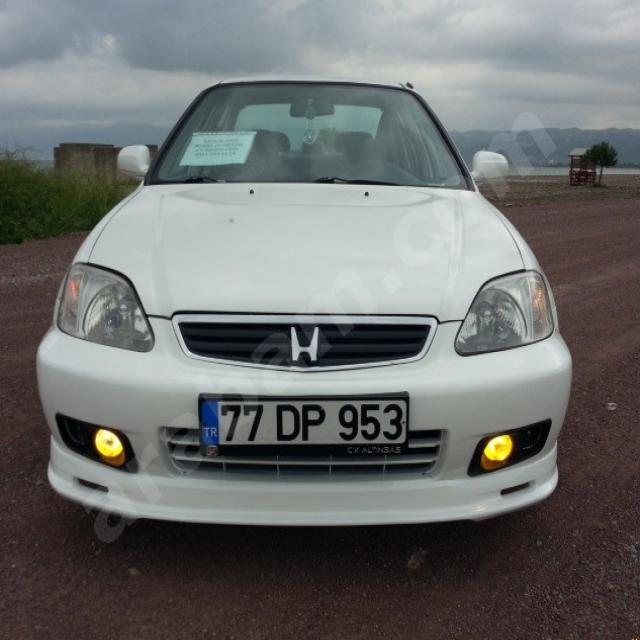license_plate: (200, 398, 409, 445)
